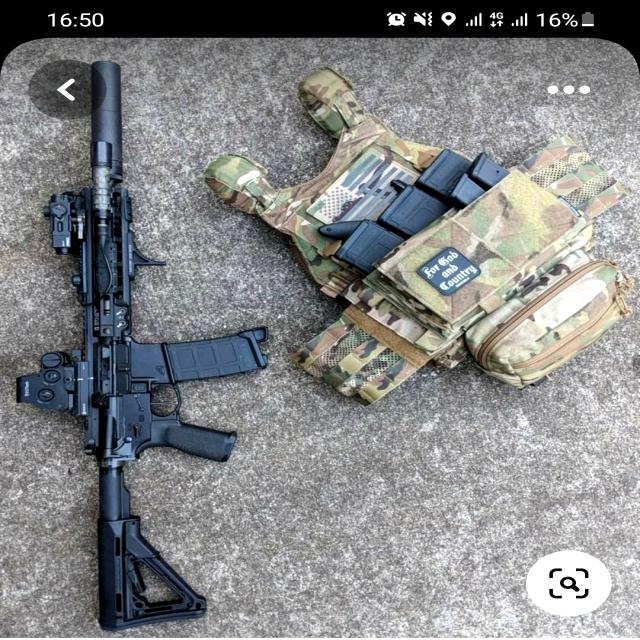m16: (34, 299, 270, 634)
